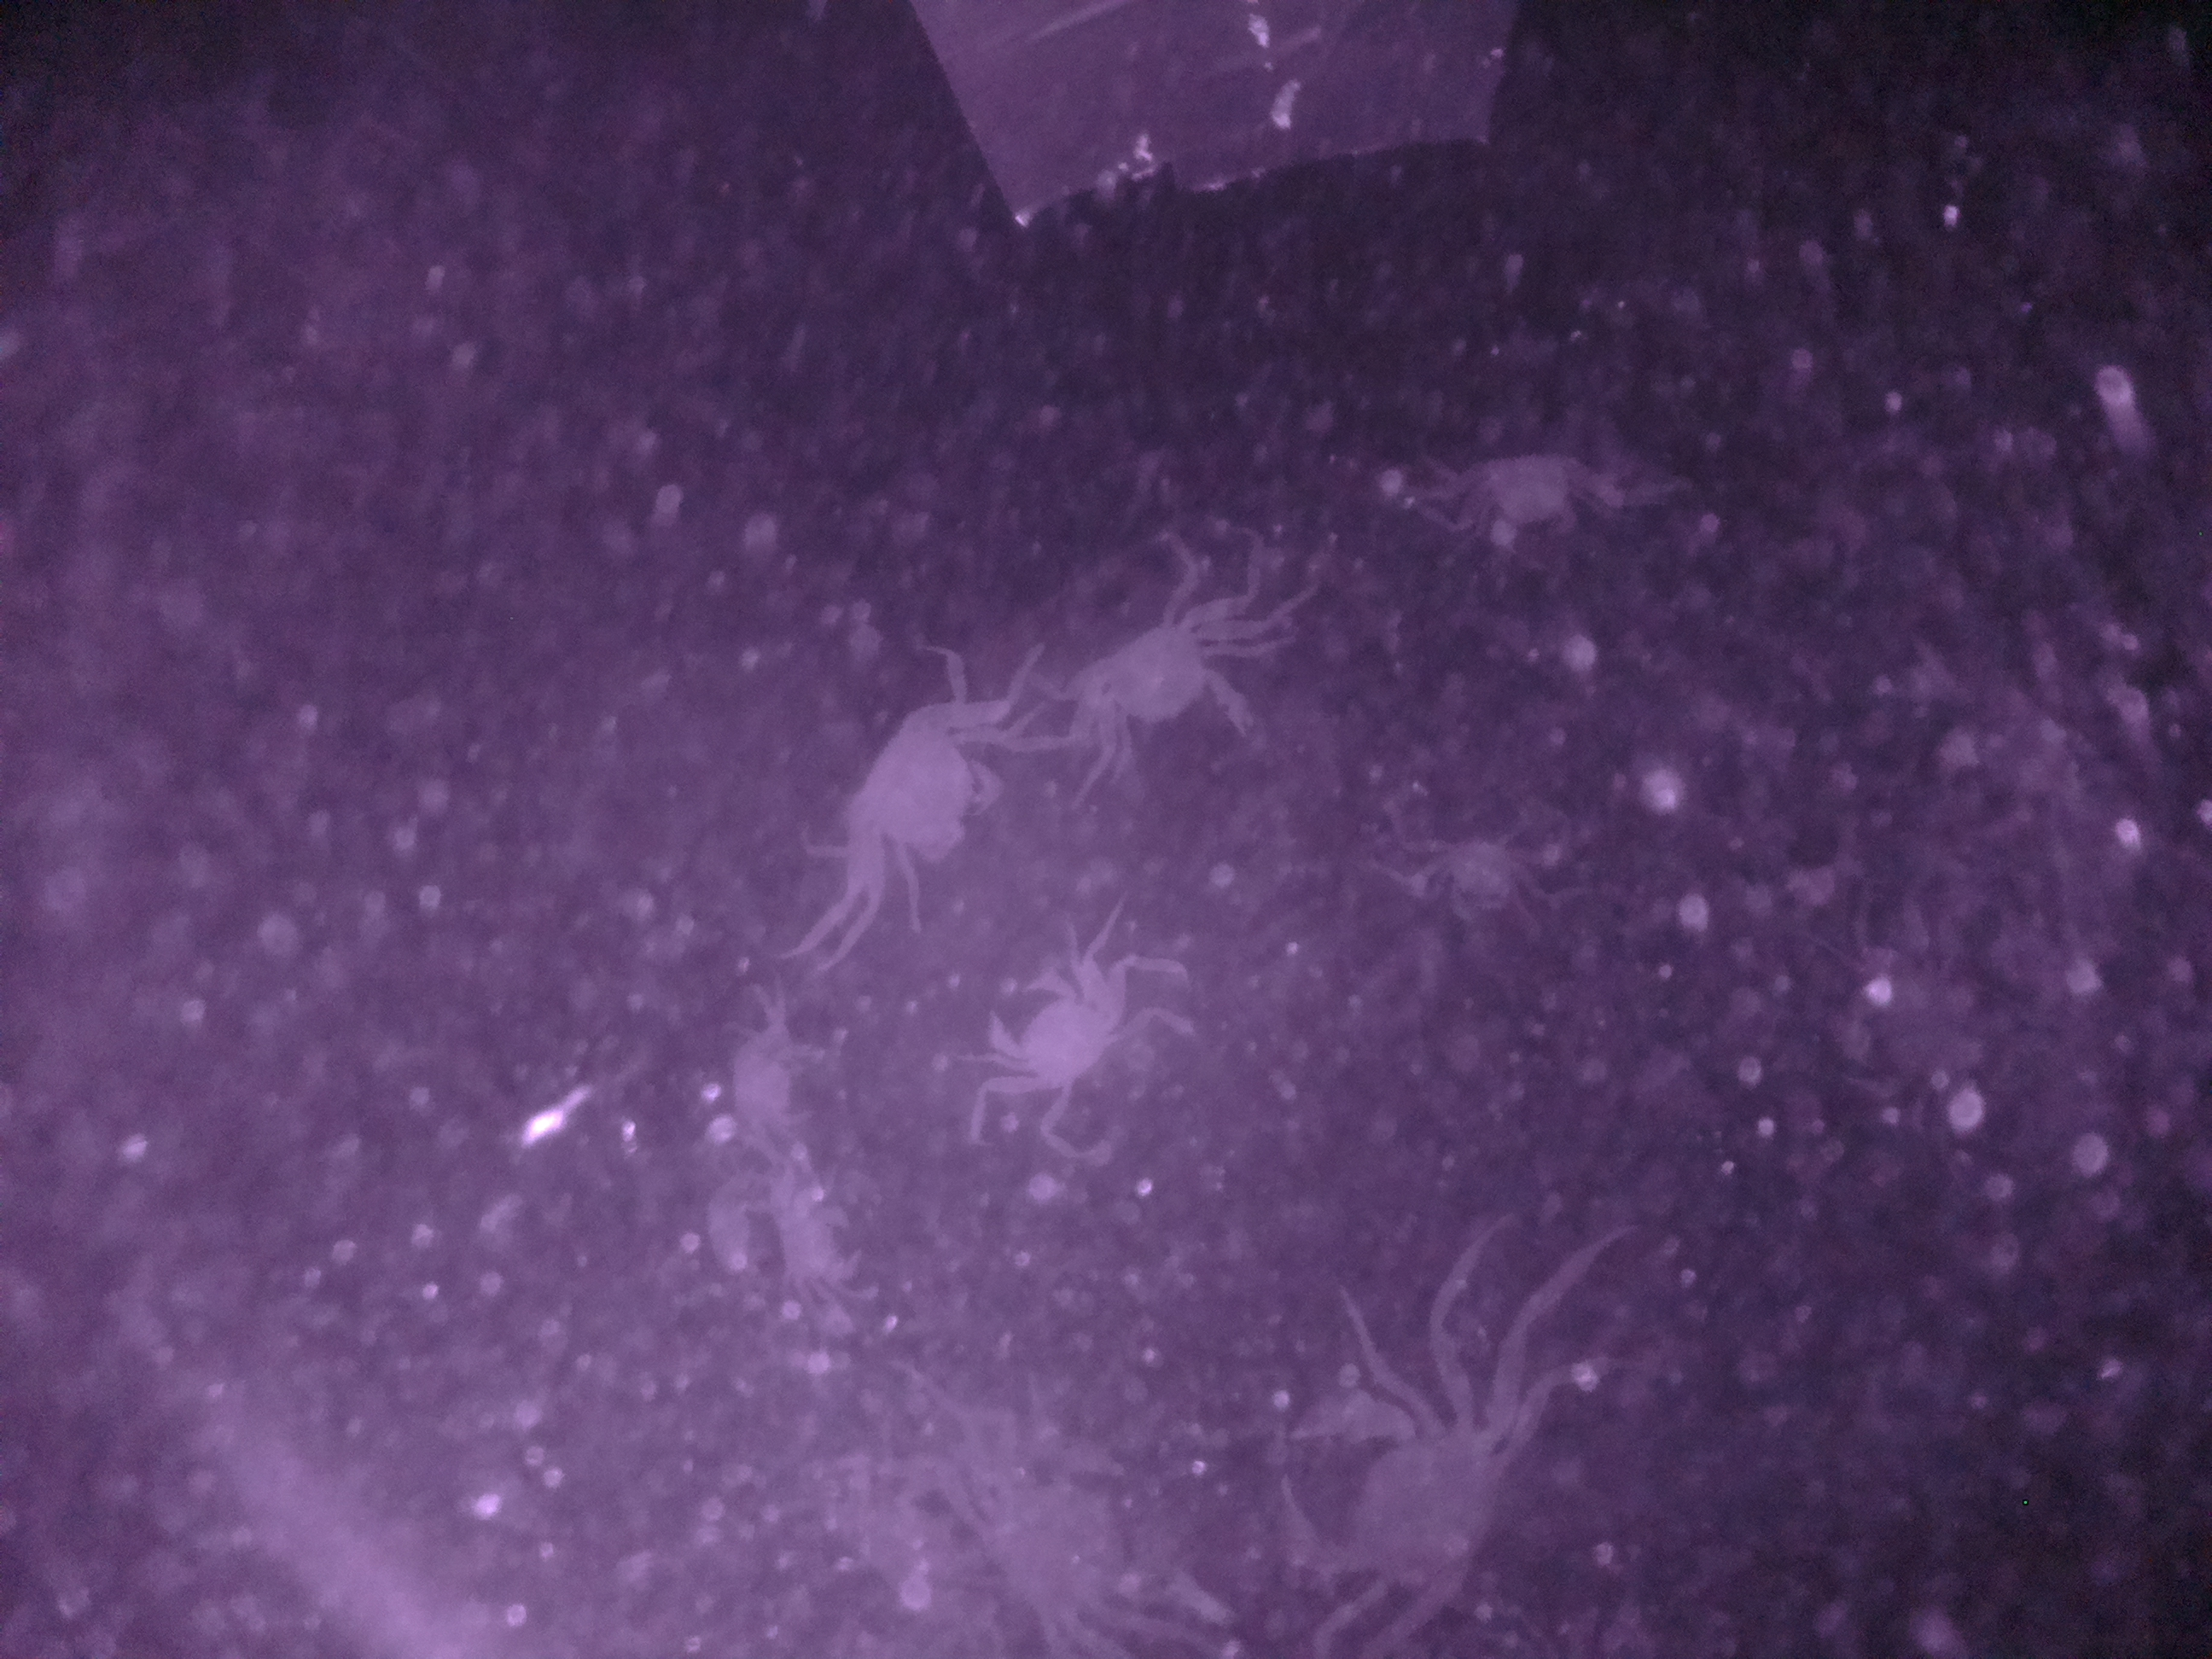Crab: (824, 674, 1019, 932), (972, 917, 1148, 1155), (1055, 589, 1252, 795), (751, 1183, 883, 1293)
